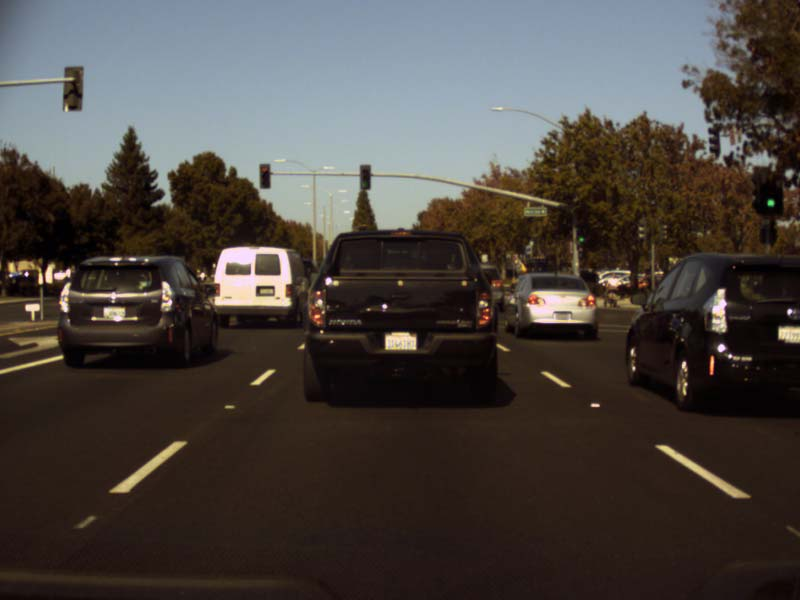Green: (758, 174, 782, 216), (360, 165, 371, 189), (576, 227, 585, 243)
Red: (259, 163, 270, 188)
